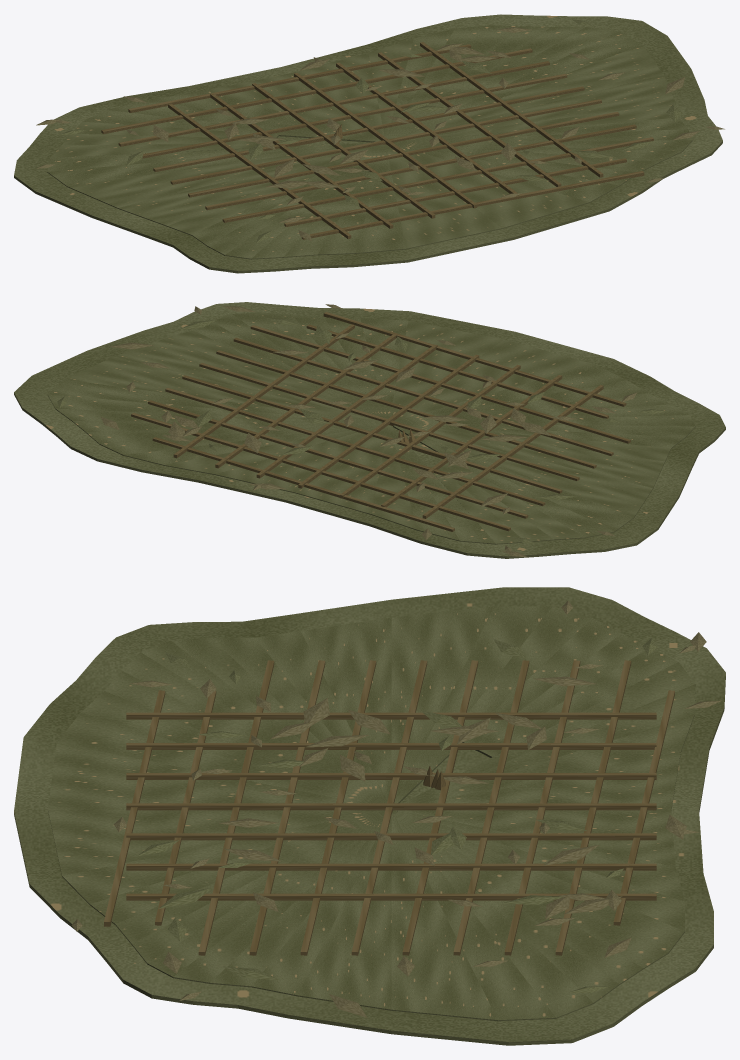
3 renders of one model, top to bottom at view 1: azimuth 30°, elevation 25°; view 2: azimuth 150°, elevation 25°; view 3: azimuth 270°, elevation 25°, orthographic. The views are drawn at different scales.
Parts seen in each view (by area): view 1: garrison_part_0001, garrison_part_0000; view 2: garrison_part_0001, garrison_part_0000; view 3: garrison_part_0001, garrison_part_0000.
Part boxes in pixels (left/top/right/bottom): garrison_part_0001: left=36, top=19, right=724, bottom=259; garrison_part_0000: left=14, top=14, right=722, bottom=273; garrison_part_0001: left=47, top=304, right=695, bottom=557; garrison_part_0000: left=14, top=302, right=725, bottom=558; garrison_part_0001: left=48, top=600, right=721, bottom=1021; garrison_part_0000: left=14, top=587, right=725, bottom=1045.
Size of the model in its own units: 2080 by 51.62 by 1376.
